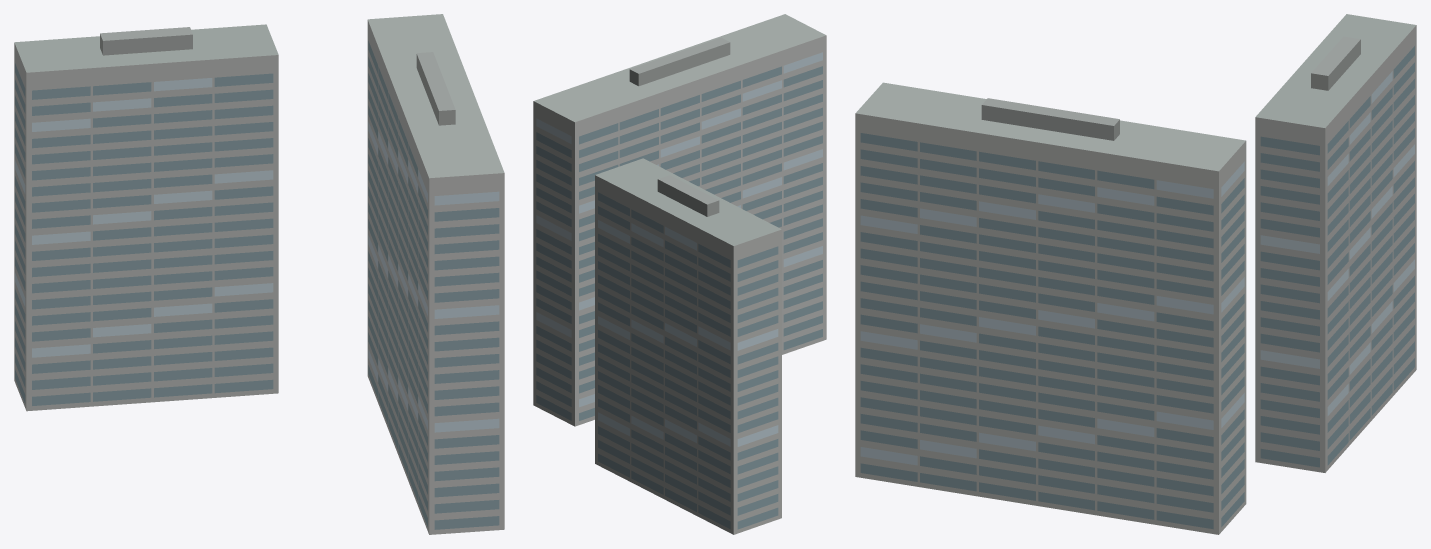
Rendered from apt-a14319005.glb.
3 views of the same model, side by side, from view 1: azimuth 30°, elevation 25°; view 2: azimuth 150°, elevation 25°; view 3: azimuth 270°, elevation 25° (orthographic). The views are drawn at different scales.
Visible parts, largest first — view 1: apt-a14319005; view 2: apt-a14319005; view 3: apt-a14319005.
Boxes of the visible parts, x1,y1,x2,y2 form: apt-a14319005: (14,14,504,534); apt-a14319005: (533,14,826,534); apt-a14319005: (855,14,1416,534).
Bounding box in the file's own units: 60.84 × 61 × 81.96.
